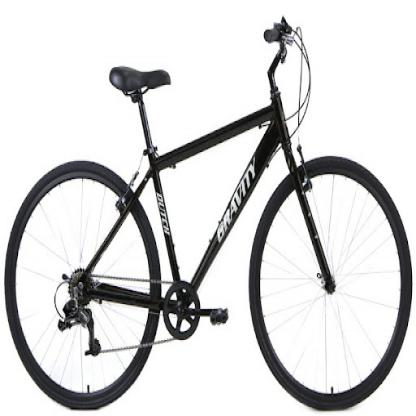Bike: (4, 18, 416, 415)
